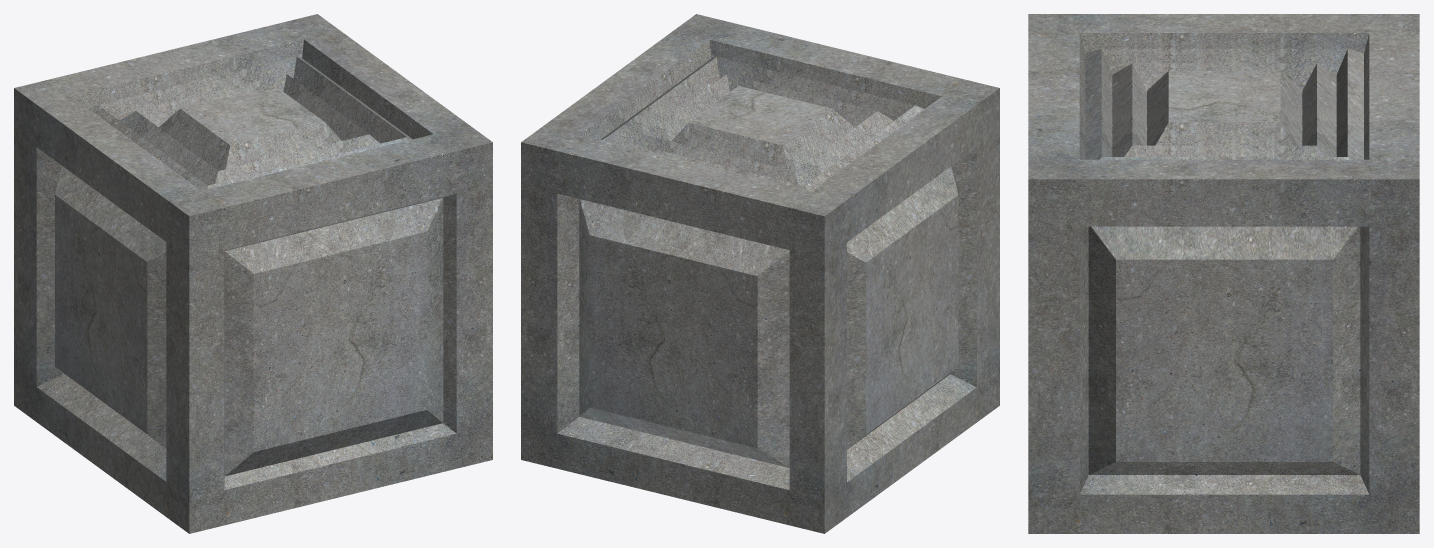
The model's file is Blok.FBX.
The picture shows the model from 3 angles, left to right: view 1: azimuth 30°, elevation 25°; view 2: azimuth 150°, elevation 25°; view 3: azimuth 270°, elevation 25°; orthographic projection. The views are drawn at different scales.
Parts seen in each view (by area): view 1: Box001; view 2: Box001; view 3: Box001.
Boxes of the visible parts, x1,y1,x2,y2 form: Box001: (14, 14, 492, 533); Box001: (521, 14, 999, 533); Box001: (1028, 14, 1419, 533).
Size of the model in its own units: 50.08 by 50 by 50.
Materials: 1 (1 with a texture image).
